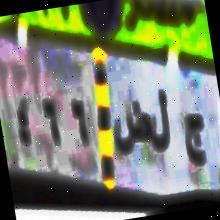4: (10, 94, 36, 149)
6: (68, 95, 92, 149), (40, 97, 63, 148)
daad: (110, 96, 154, 154)
jeem: (177, 107, 211, 172)
laam: (145, 86, 176, 157)
